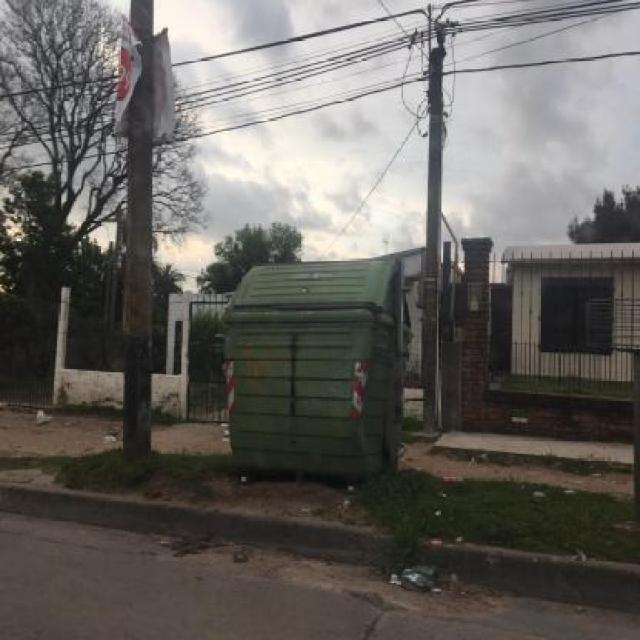garbage: (520, 465, 586, 562), (365, 533, 443, 603), (397, 448, 486, 502), (26, 407, 124, 456)
